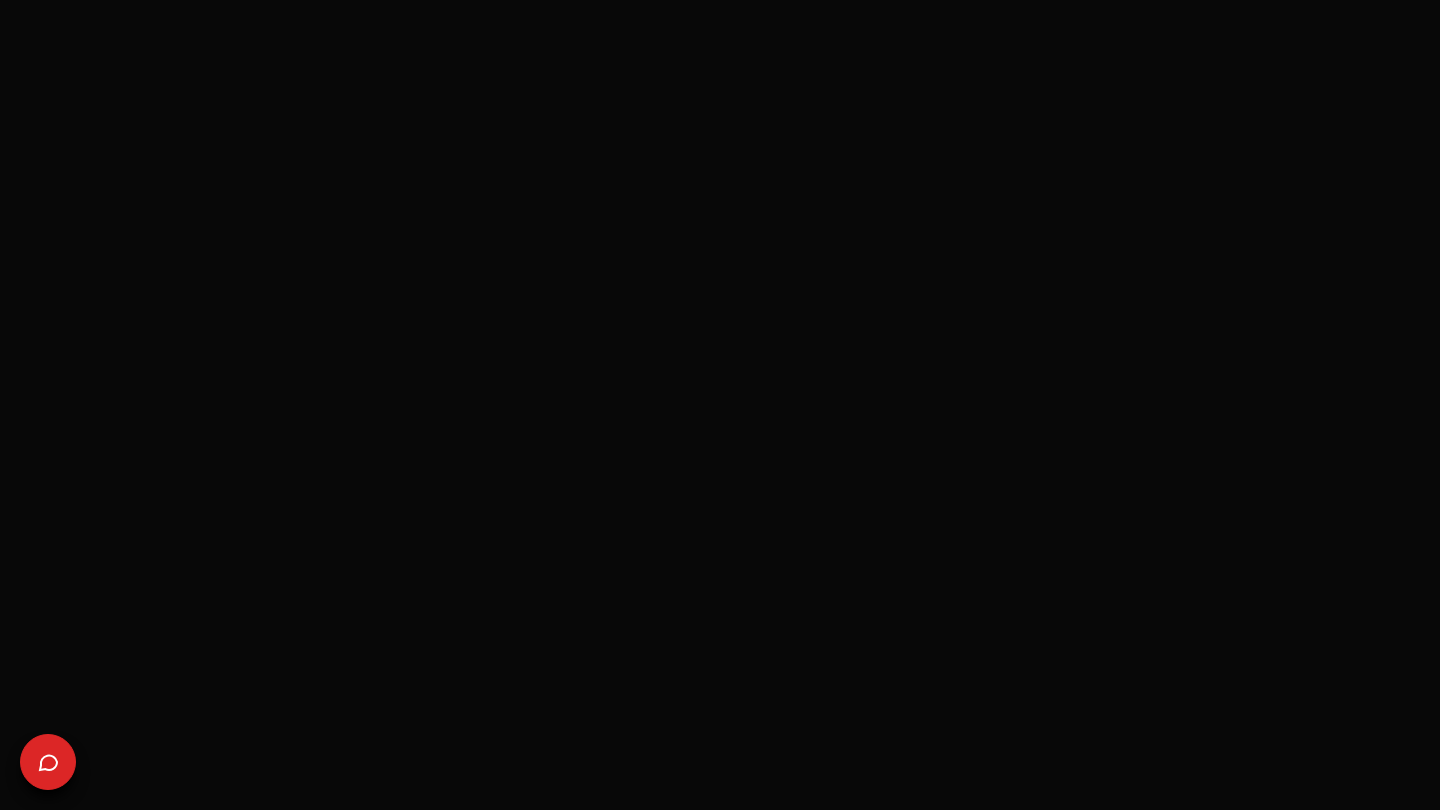
Test: ChatWidget › sends a message and renders the markdown reply
The image size is (1440, 810).
Click the button named "باز کردن چت" at (48, 762), box x1=20 y1=734 x2=76 y2=790
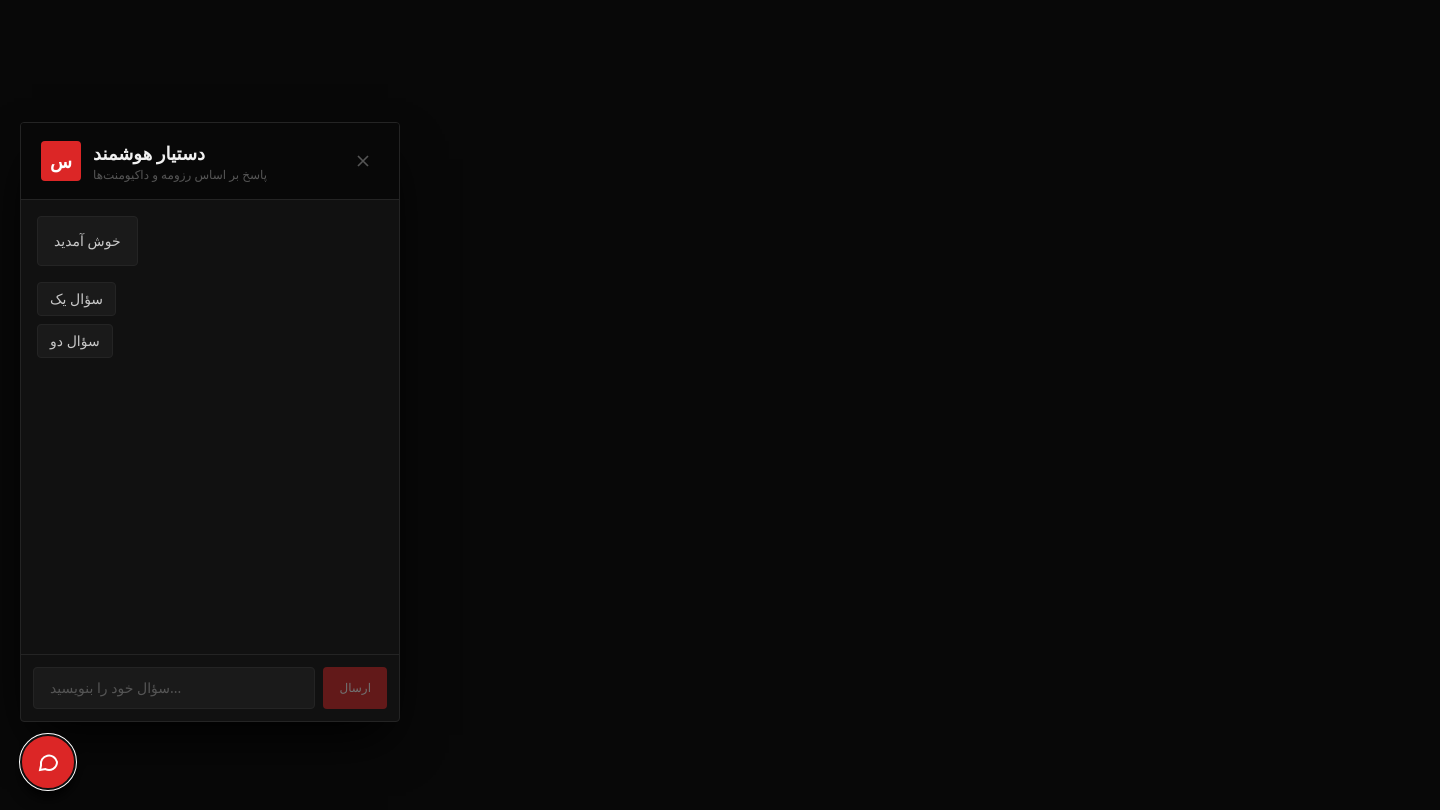
Type "سلام" into the field labelled "سؤال خود را بنویسید..." at (174, 688), box x1=33 y1=667 x2=315 y2=709
Then press Enter
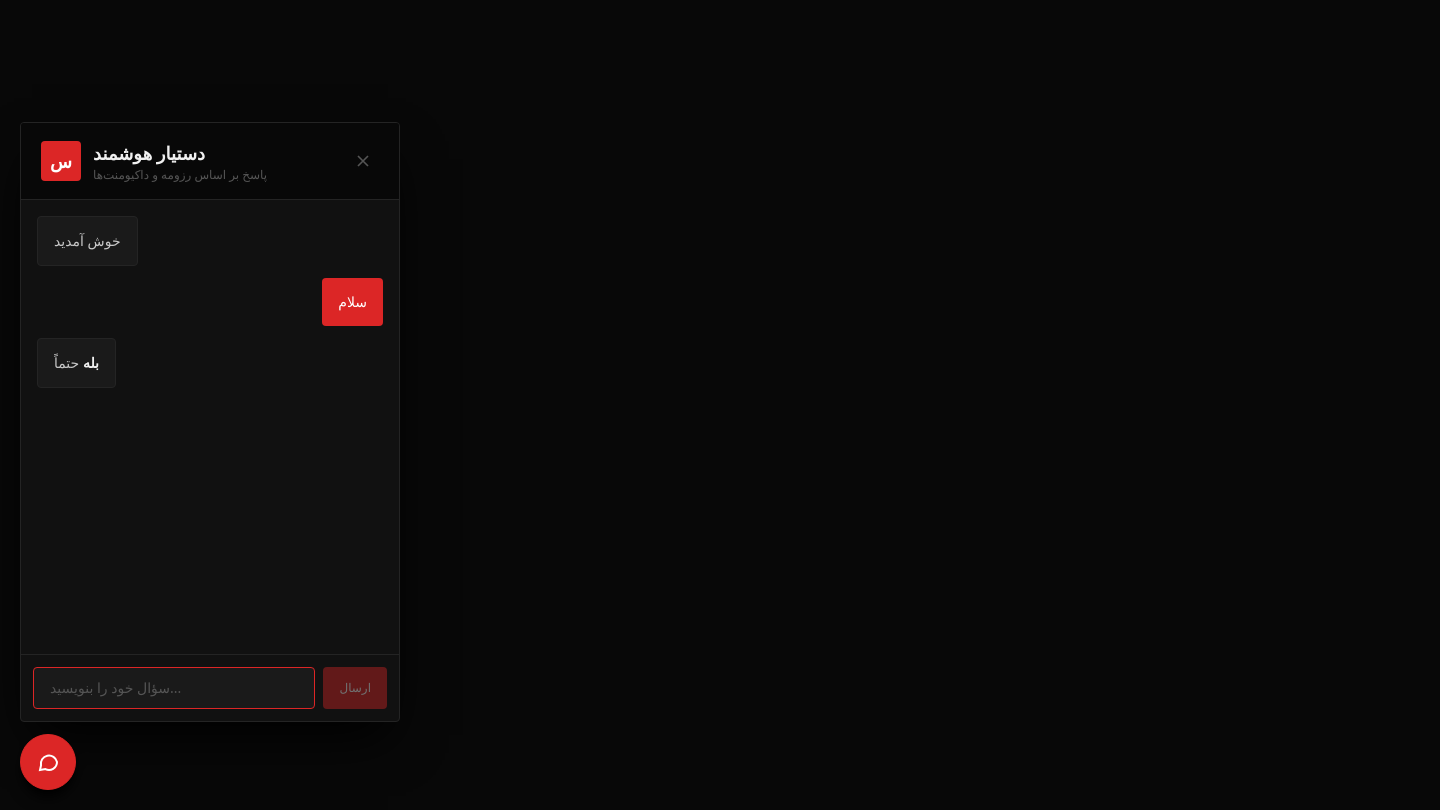
expect the field labelled "سؤال خود را بنویسید..." is empty: met, box x1=33 y1=667 x2=315 y2=709
expect the text "سلام" is shown: met, box x1=338 y1=288 x2=367 y2=316
